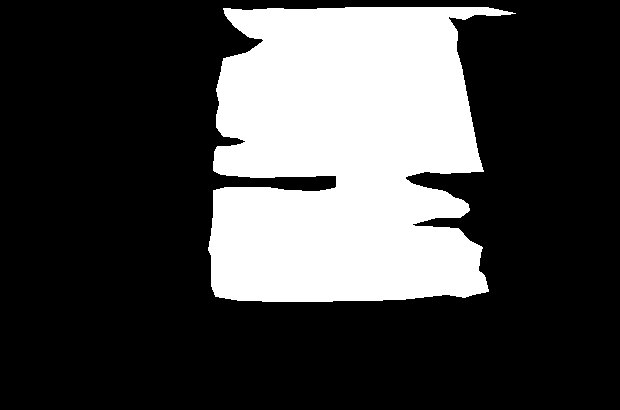type4: (206, 4, 522, 304)
